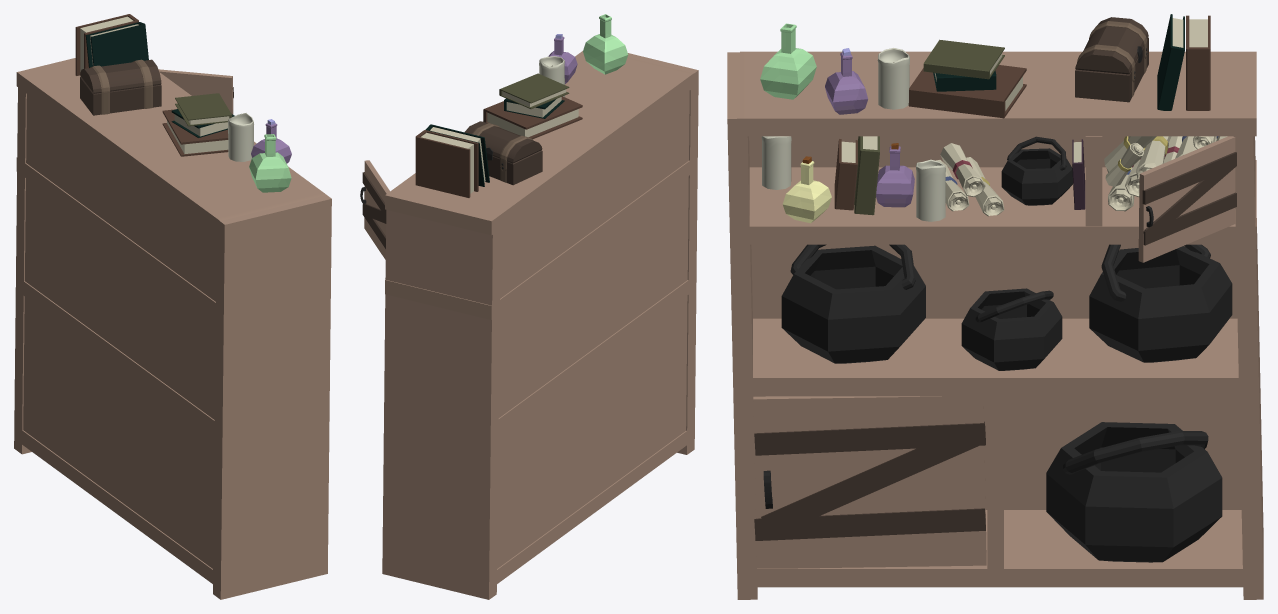
File: shortBookShelf.fbx
3 renders of one model, left to right at view 1: azimuth 30°, elevation 25°; view 2: azimuth 150°, elevation 25°; view 3: azimuth 270°, elevation 25°, orthographic. The views are drawn at different scales.
Visible parts, largest first — view 1: pCube15, chest2, polySurface1656, potion19, book30, book32, candle6, book29, book31, potion20; view 2: pCube15, book29, chest2, book30, potion19, book32, polySurface1656, book31, candle6, potion20; view 3: pCube15, cauldron5, cauldron1, cauldron2, cauldron3, chest2, cauldron4, book30, scollBundle, potion19, book32, book29 (+14 smaller).
Boxes of the visible parts, bbox=[...] form: pCube15: bbox=[14, 58, 331, 599]; chest2: bbox=[80, 59, 161, 115]; polySurface1656: bbox=[85, 22, 148, 67]; potion19: bbox=[249, 134, 291, 192]; book30: bbox=[162, 109, 228, 156]; book32: bbox=[175, 93, 232, 126]; candle6: bbox=[228, 113, 253, 161]; book29: bbox=[75, 14, 138, 75]; book31: bbox=[171, 109, 234, 137]; potion20: bbox=[251, 119, 291, 163]; pCube15: bbox=[360, 51, 698, 599]; book29: bbox=[415, 130, 478, 197]; chest2: bbox=[464, 121, 542, 185]; book30: bbox=[483, 96, 582, 139]; potion19: bbox=[583, 14, 628, 74]; book32: bbox=[499, 73, 569, 109]; polySurface1656: bbox=[425, 124, 489, 186]; book31: bbox=[504, 97, 564, 118]; candle6: bbox=[539, 56, 564, 97]; potion20: bbox=[548, 34, 577, 83]; pCube15: bbox=[727, 51, 1263, 599]; cauldron5: bbox=[1046, 422, 1222, 562]; cauldron1: bbox=[781, 244, 925, 363]; cauldron2: bbox=[1089, 244, 1232, 362]; cauldron3: bbox=[961, 288, 1062, 370]; chest2: bbox=[1075, 17, 1148, 102]; cauldron4: bbox=[1001, 136, 1072, 205]; book30: bbox=[908, 65, 1026, 118]; scollBundle: bbox=[936, 143, 1004, 216]; potion19: bbox=[760, 23, 816, 99]; book32: bbox=[923, 39, 1004, 79]; book29: bbox=[1186, 15, 1210, 110].
Size of the model in its own units: 3.51 by 8.38 by 7.4.
